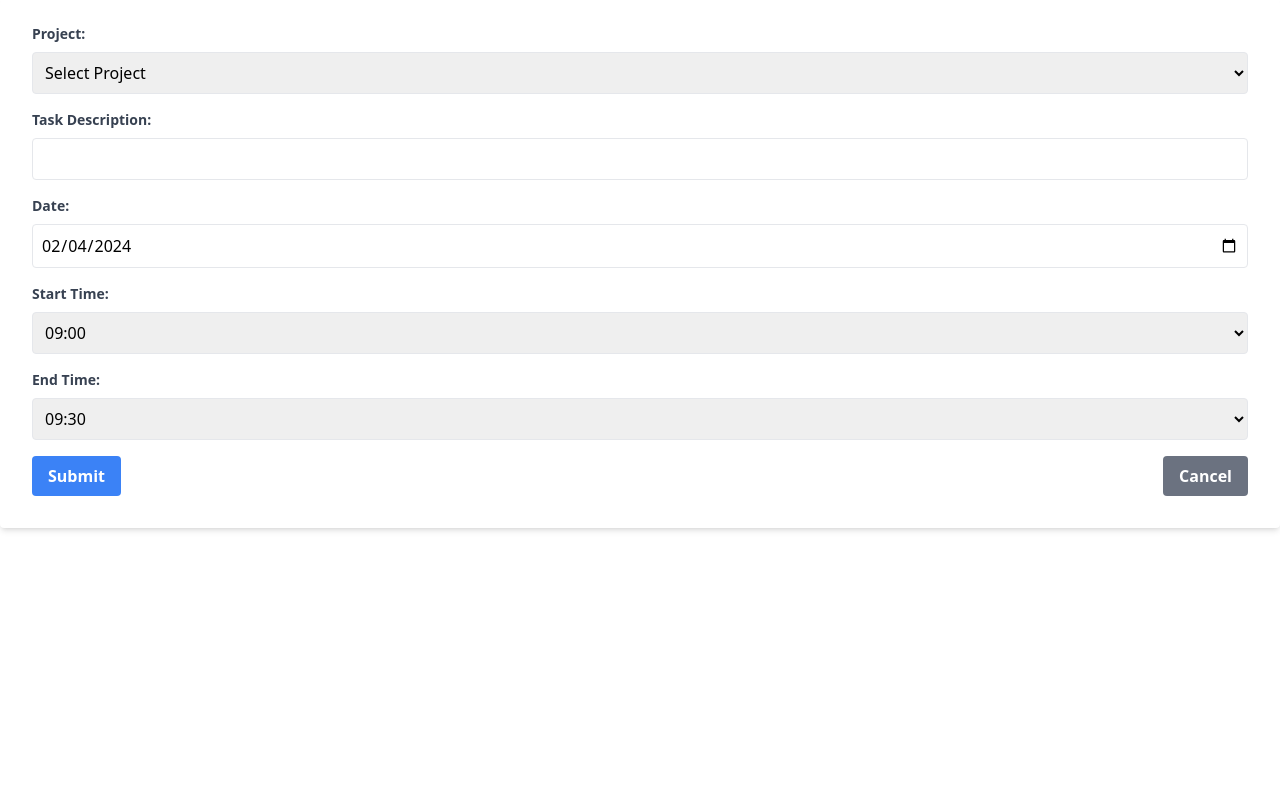
Scenario: TimeRegistrationForm › displays errors for required fields
This screenshot has width=1280, height=800.
Step 1. Clear the date field labelled "Date:" → (640, 246), box left=32, top=224, right=1248, bottom=268
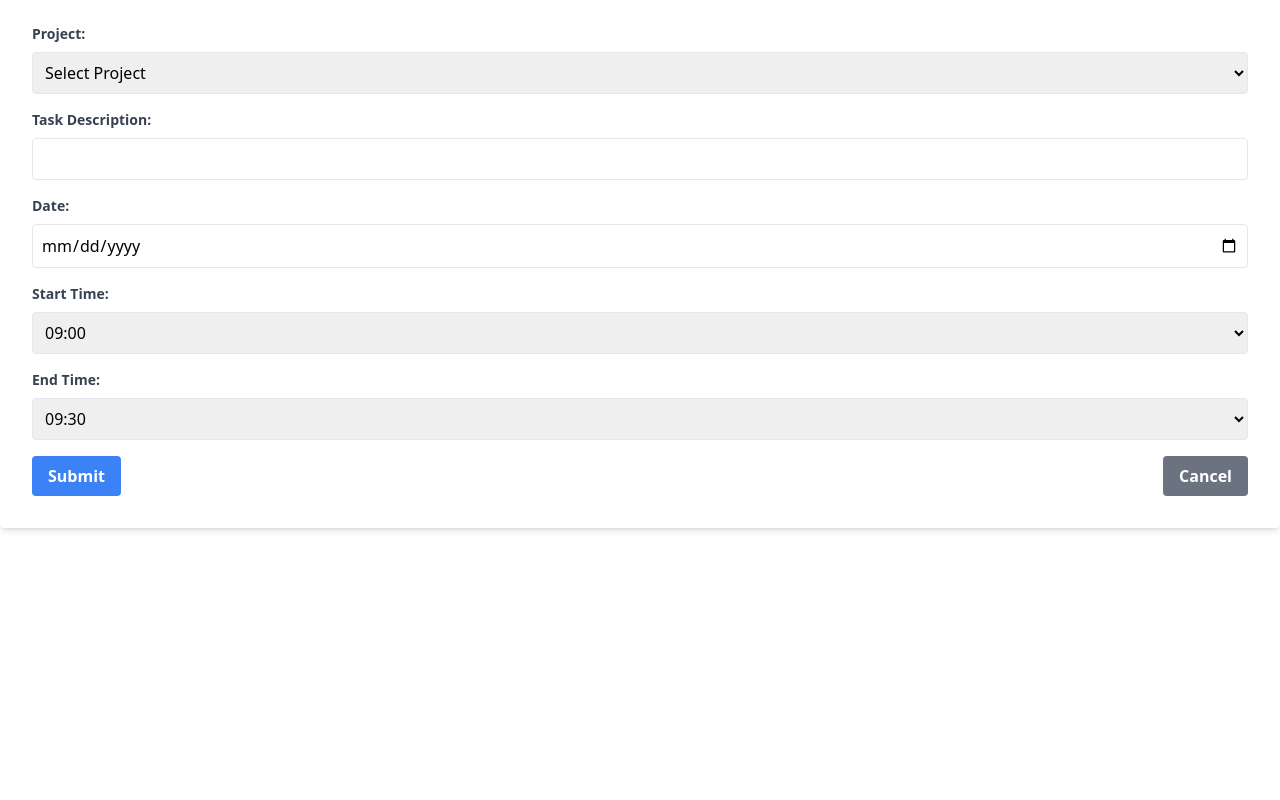
Step 2. Submit the form from the button with test id "submit-button", box left=32, top=456, right=121, bottom=496
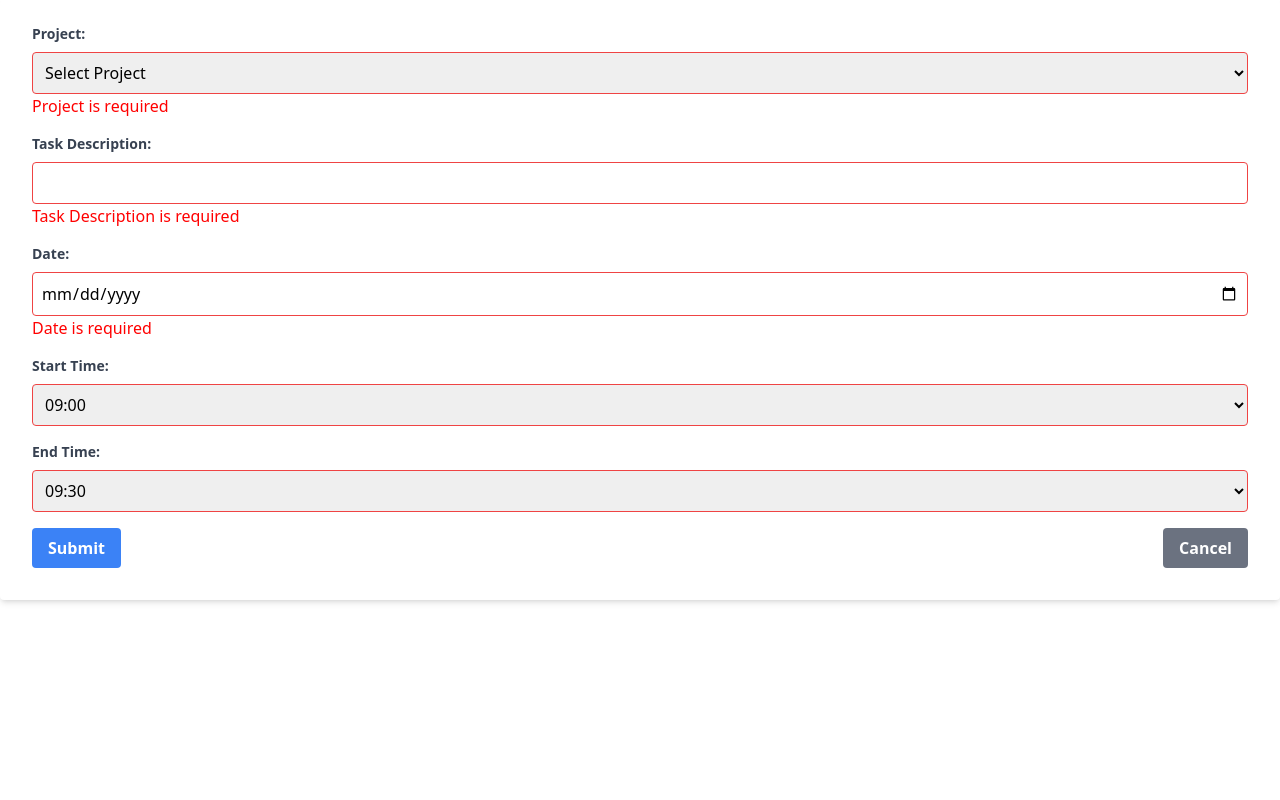
Expected: the text "Project is required" is shown, left=32, top=95, right=169, bottom=117
Expected: the text "Task Description is required" is shown, left=32, top=205, right=240, bottom=227
Expected: the text "Date is required" is shown, left=32, top=317, right=152, bottom=339
